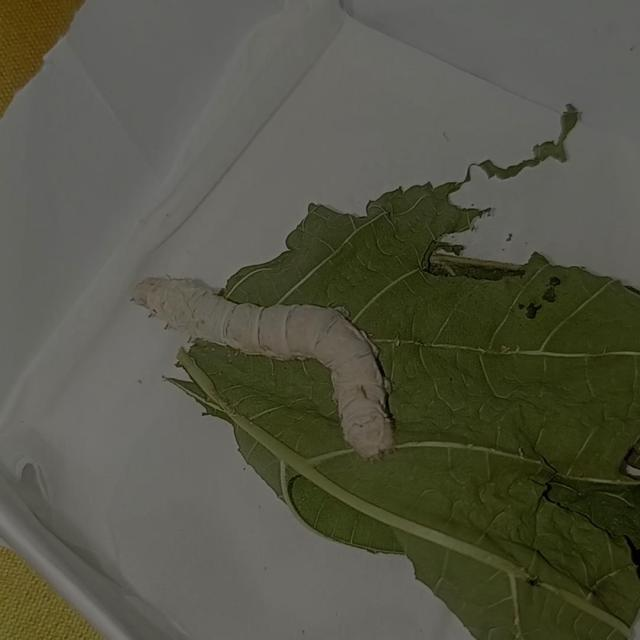Healthy: (118, 258, 406, 466)
